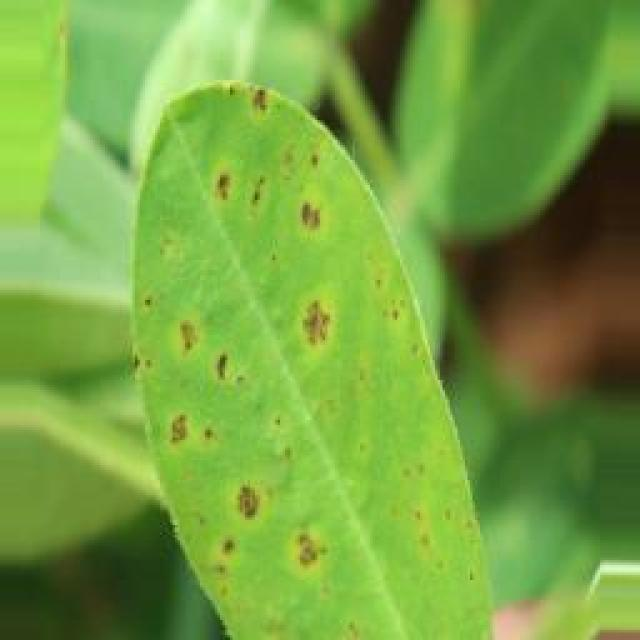Sigatoka: (149, 284, 255, 416), (189, 490, 327, 579), (185, 172, 325, 252), (230, 69, 323, 189), (363, 261, 427, 383), (137, 399, 245, 457), (262, 296, 352, 351)
